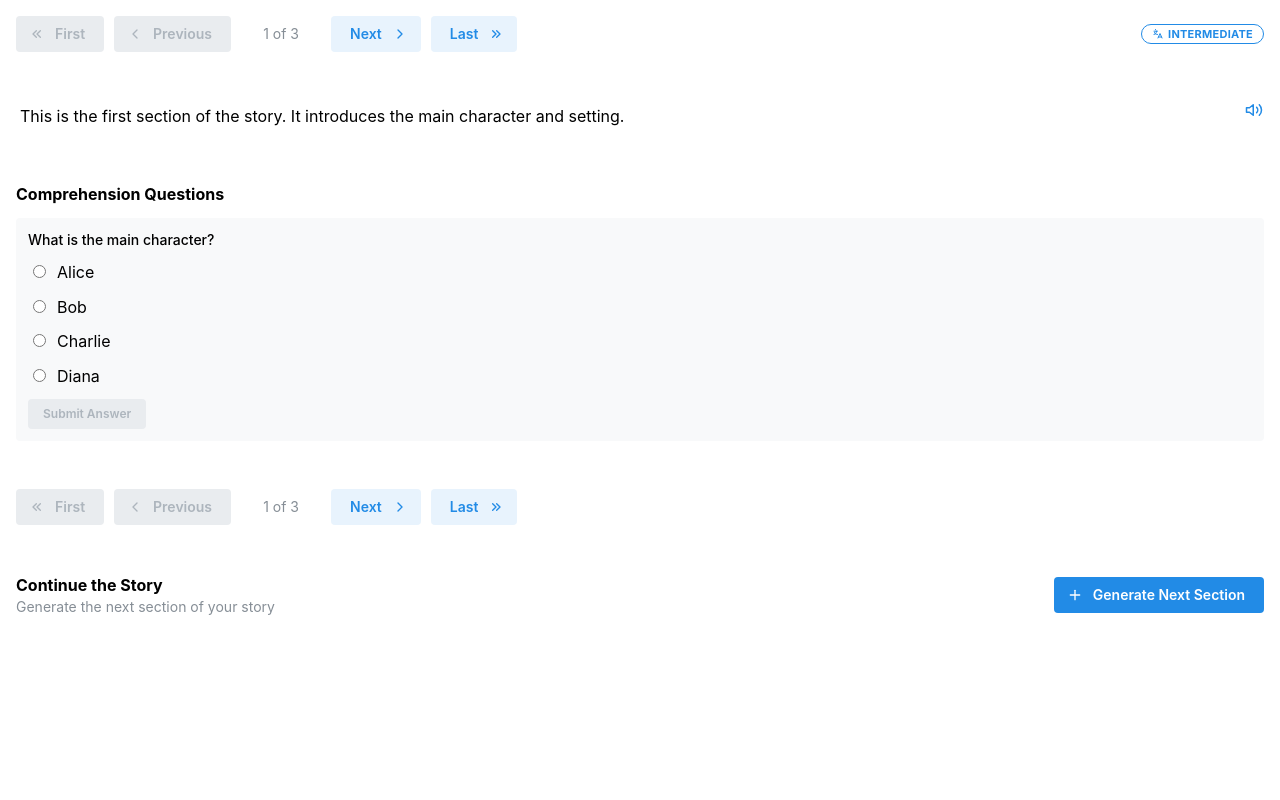
Test: StorySectionView › Question Interaction › allows trying again after answering
The image size is (1280, 800).
Select and submit answer
Click the radio button labelled "Alice": (40, 271) [33, 265, 46, 278]
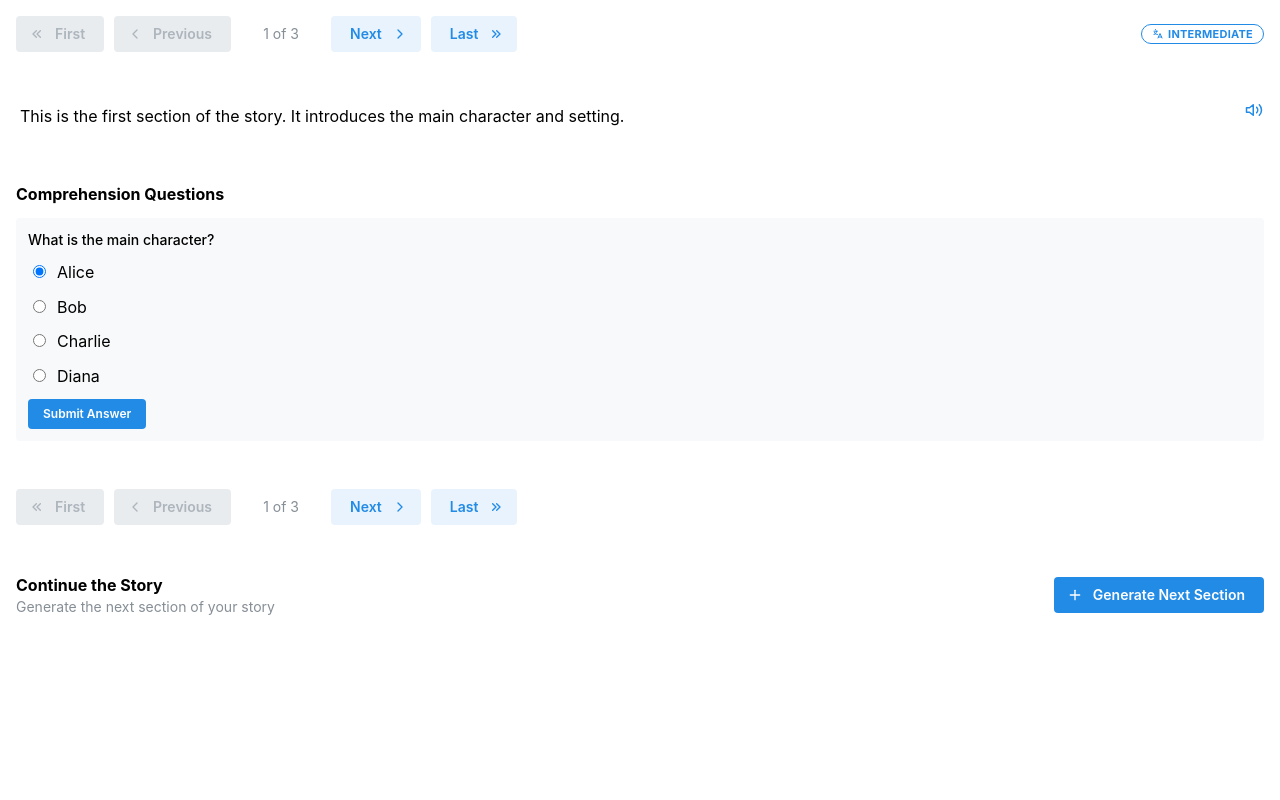
Click the button "Submit Answer": (87, 414) [28, 399, 146, 429]
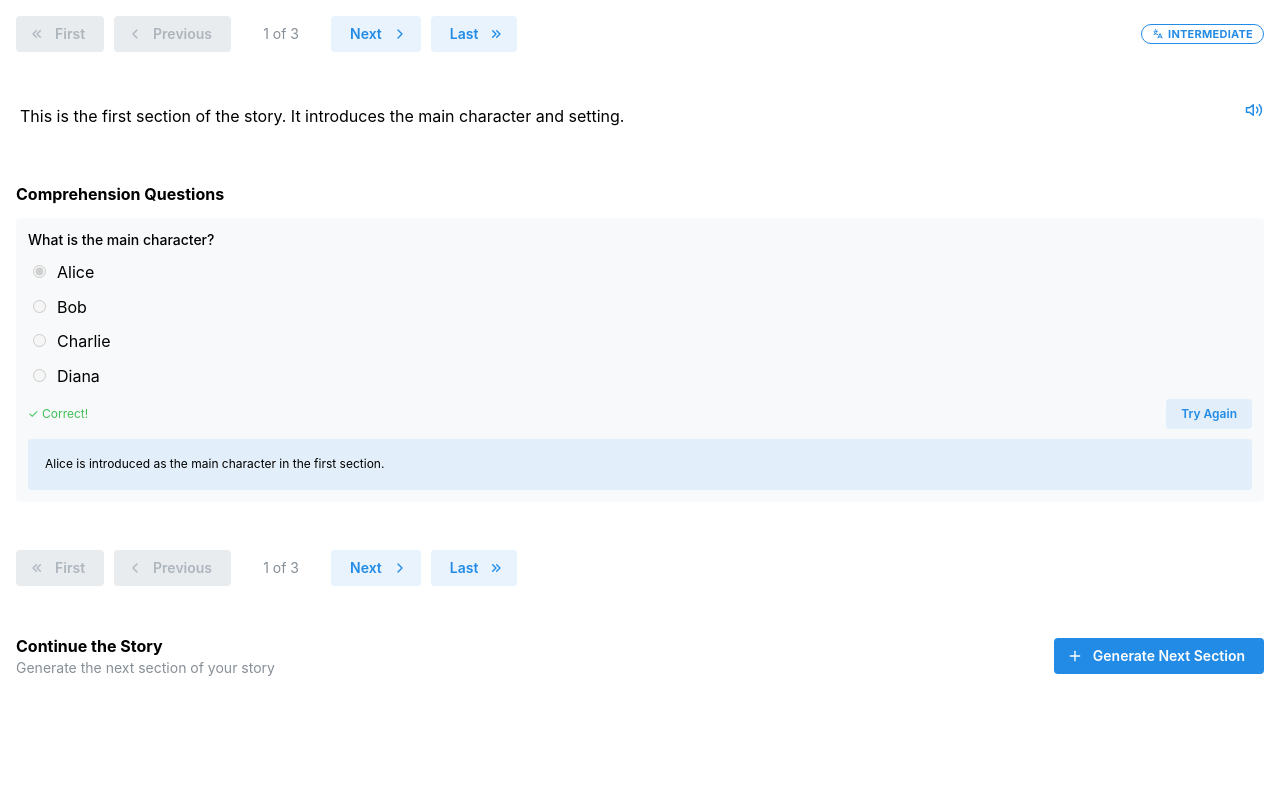
Click try again
Click the button "Try Again": (1209, 414) [1166, 399, 1252, 429]
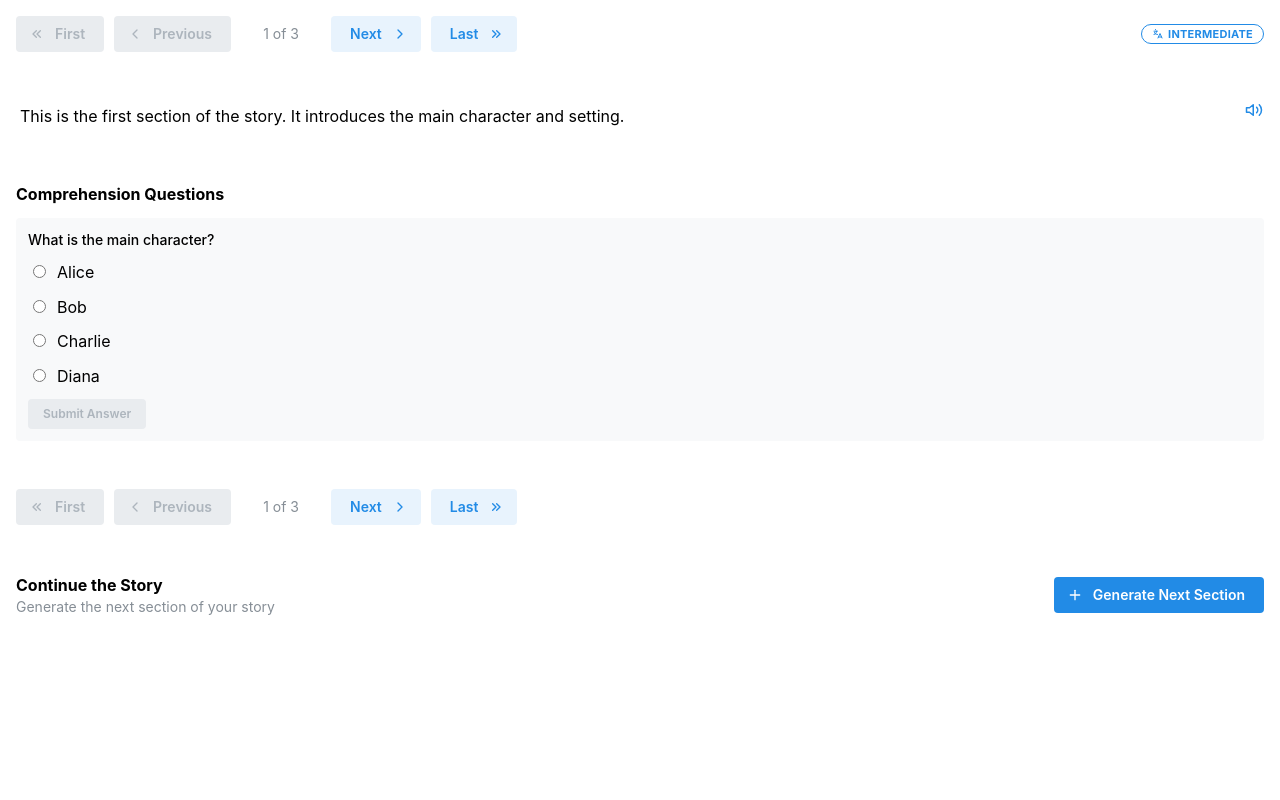
Expected: the button "Submit Answer" is shown, [28, 399, 146, 429]
